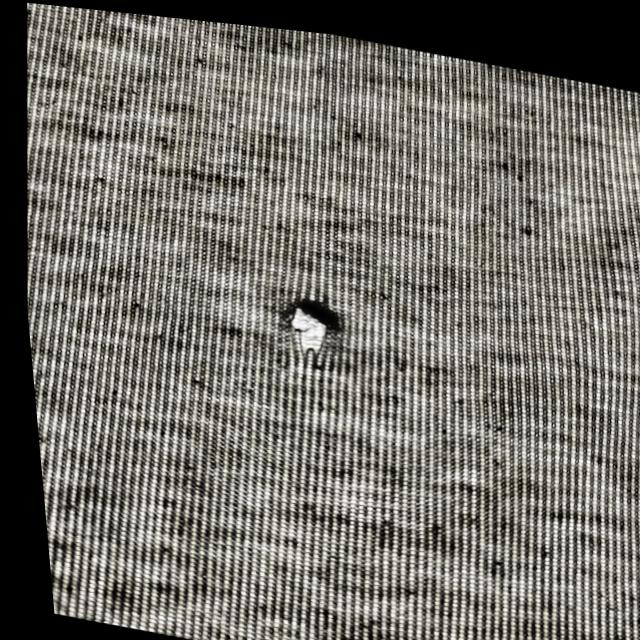Hole: (265, 278, 357, 381)
